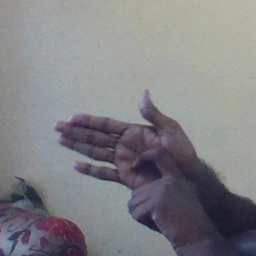R: (57, 87, 189, 221)
